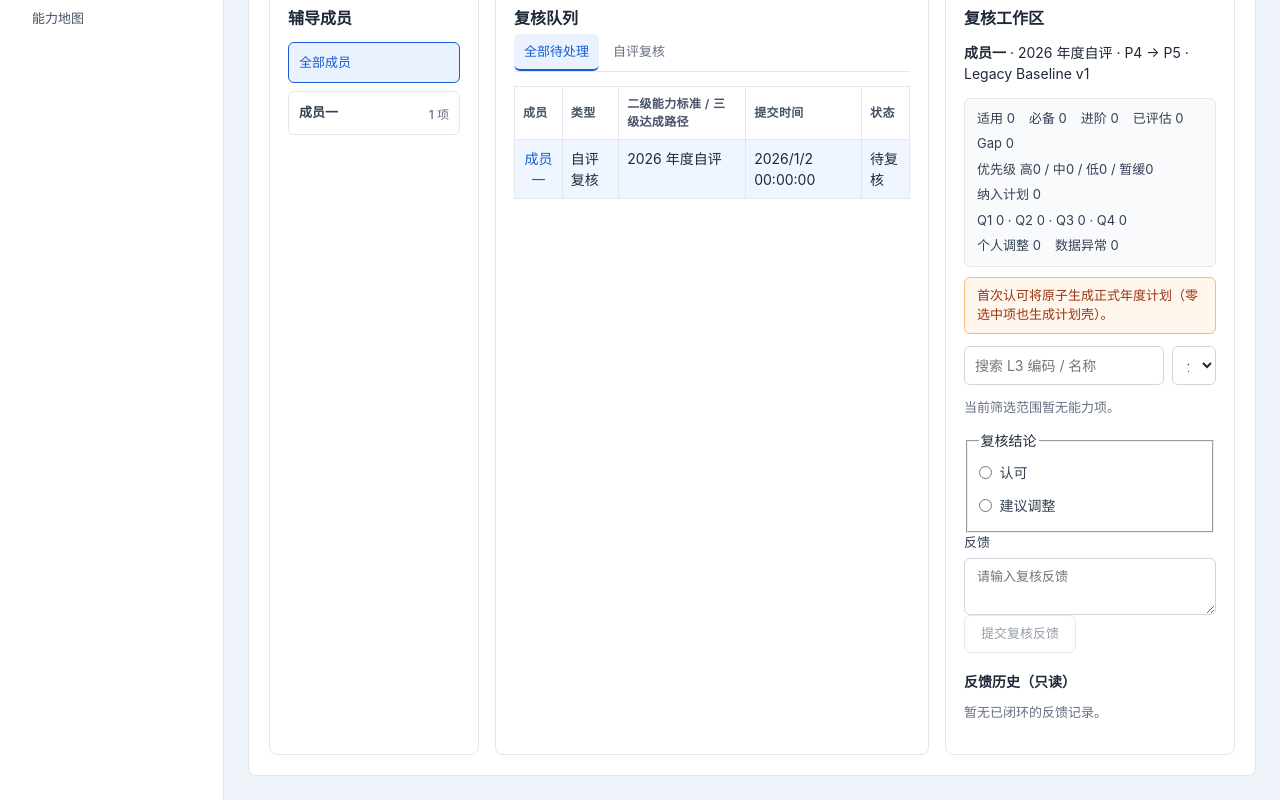
Scenario: AssessmentReviewPage › submits adjustment with correct message
(page scrolled)
Click the radio button labelled "建议调整".
click(985, 505)  # box x1=978 y1=499 x2=992 y2=512
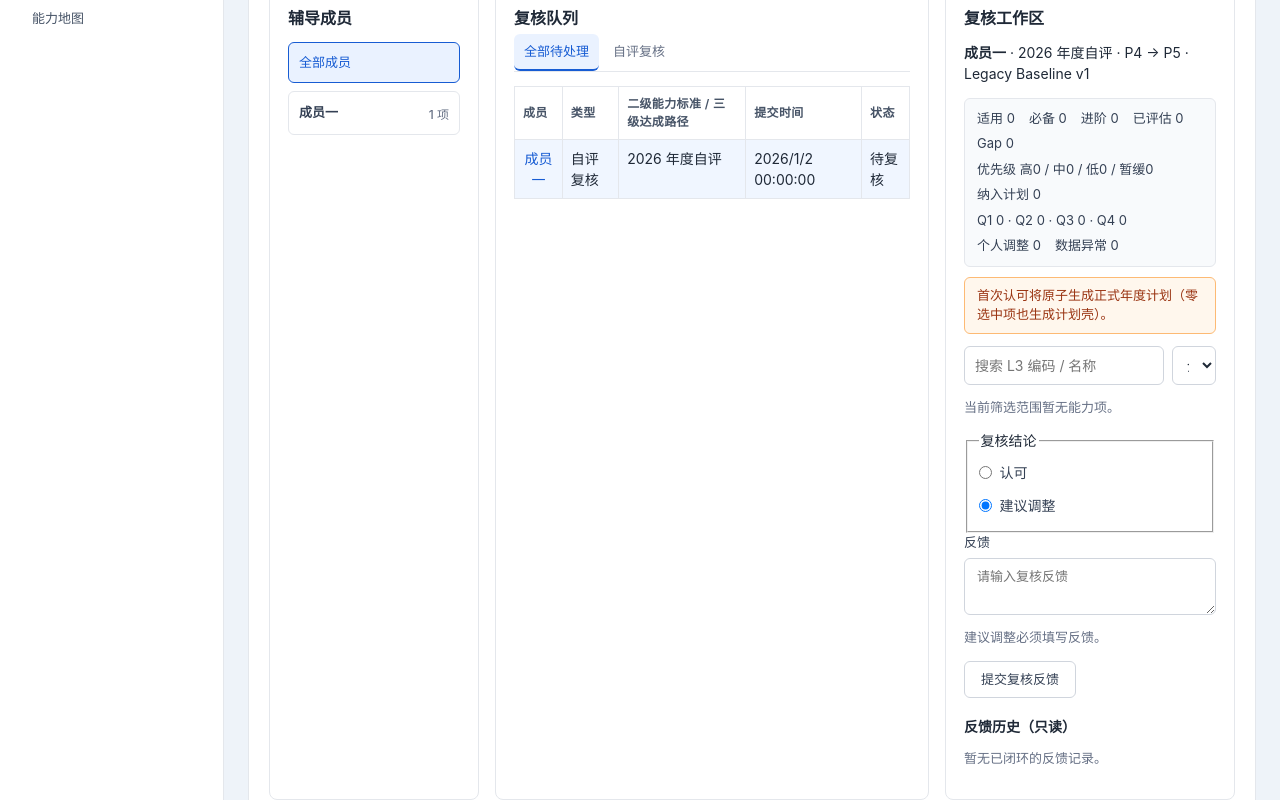
Type "请补充依据" into the text box labelled "反馈".
click(1090, 587); type("请补充依据")  # box x1=964 y1=558 x2=1216 y2=615
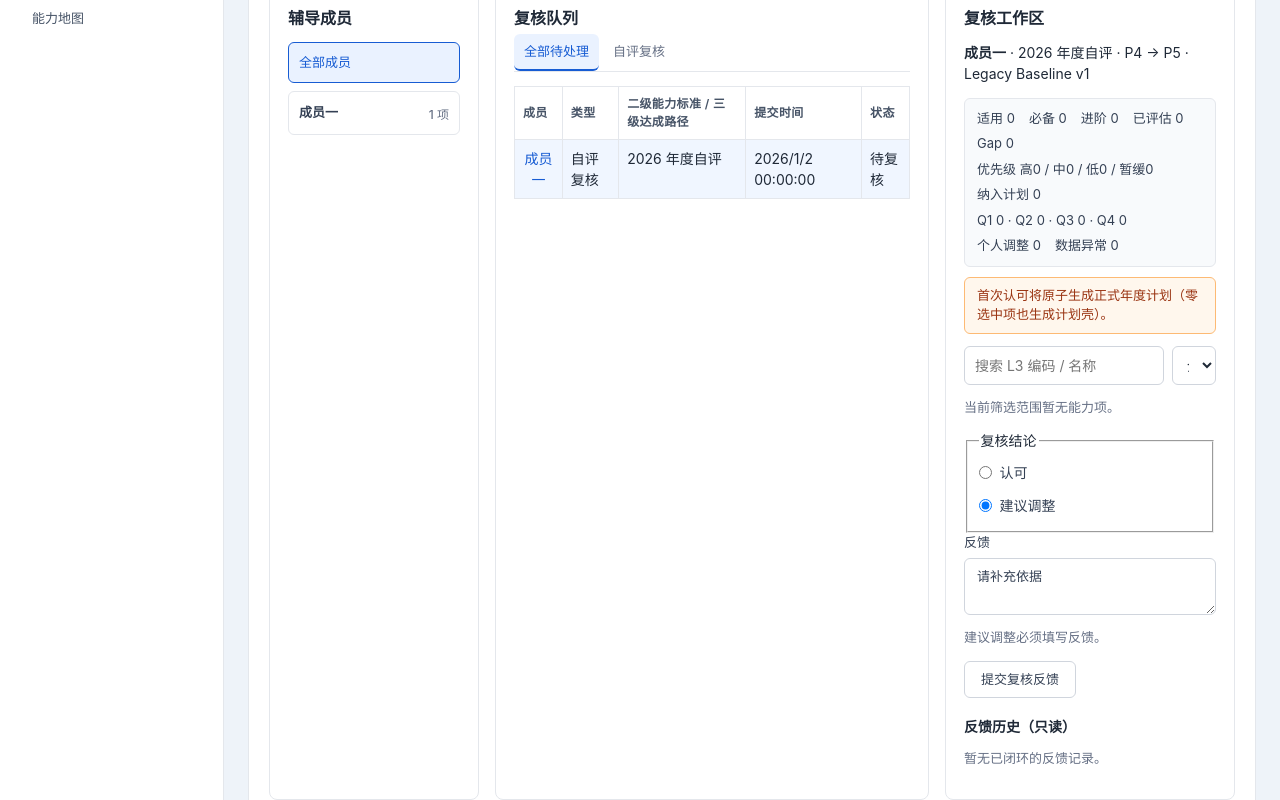
Click the button "提交复核反馈".
click(1020, 679)  # box x1=964 y1=661 x2=1076 y2=698
(page scrolled)
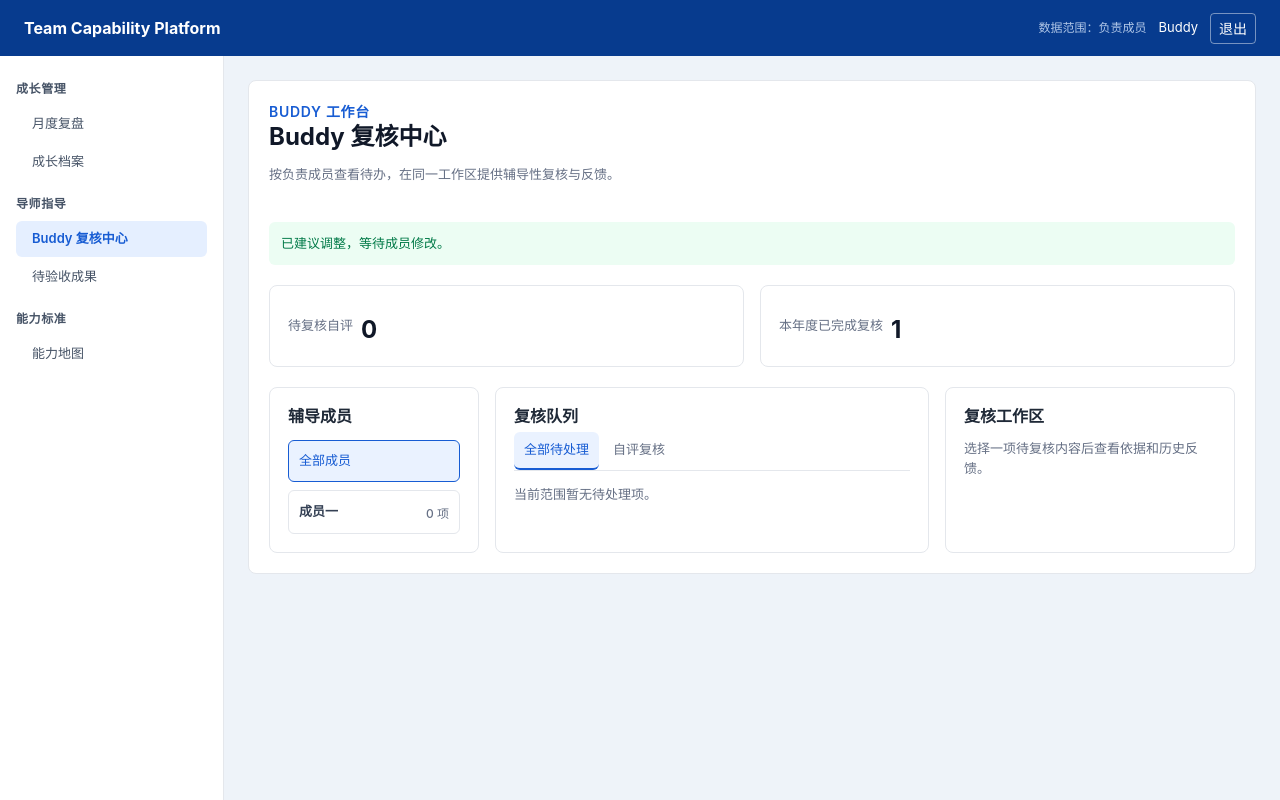
Expected: the text "已建议调整，等待成员修改。" is shown, x1=269 y1=222 x2=1235 y2=265
